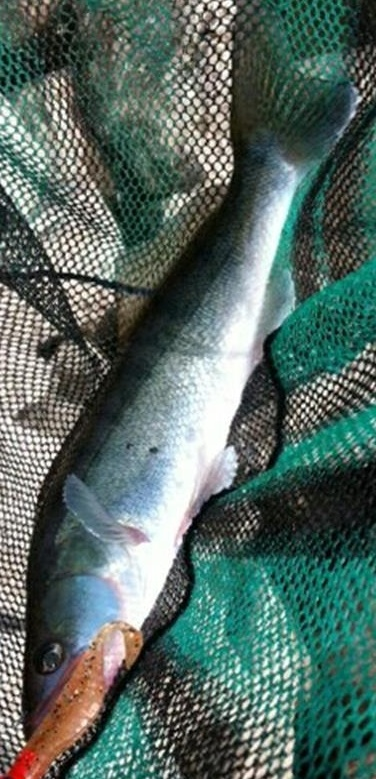Sander lucioperca: (20, 20, 356, 759)
